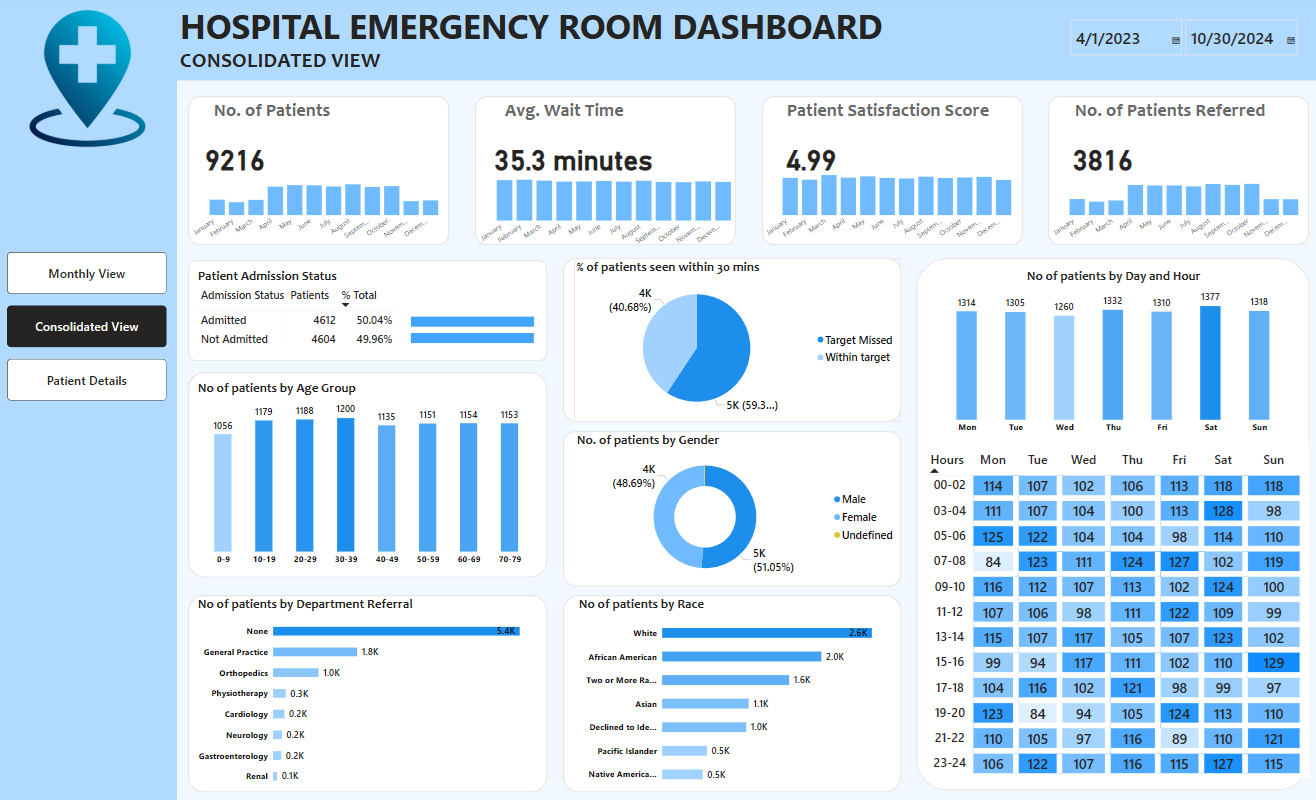

What the dashboard file says about the page in this screenshot:
{"tool":"powerbi","page":{"name":"Page 1","canvas":[2300,1400],"ordinal":0},"visuals":[{"type":"shape","box":[0,0,310,1400],"z":0},{"type":"shape","box":[309.1,0,1990.9,140],"z":1000},{"type":"textbox","box":[309.1,0,1261.8,105.5],"z":2000},{"type":"textbox","box":[310,74.9,278.6,64.4],"z":3000},{"type":"shape","box":[329.1,167.3,455,260],"z":4000},{"type":"card","fields":{"Values":["Hospital ER_Data.No of patients"]},"box":[341.8,230.9,138.2,81.8],"z":5000},{"type":"slicer","fields":{"Values":["Date.Year"]},"box":[1852.7,16.4,187.3,105.5],"z":6000},{"type":"slicer","fields":{"Values":["Date.Month Name"]},"box":[2040,16.4,241.8,105.5],"z":7000},{"type":"textbox","box":[329.1,167.3,454.5,63.6],"z":8000},{"type":"areaChart","fields":{"Y":["Hospital ER_Data.No of patients"],"Category":["Date.Date.Variation.Date Hierarchy.Day"]},"box":[329.1,281.8,454.5,145.5],"z":9000},{"type":"card","fields":{"Values":["Min(Date.Month & Year)"]},"box":[587.3,74.5,287.3,61.8],"z":10000},{"type":"shape","box":[828.8,167.3,454.5,260],"z":11000},{"type":"shape","box":[1328,167.3,454.5,260],"z":12000},{"type":"shape","box":[1827.3,167.3,454.5,260],"z":13000},{"type":"areaChart","fields":{"Category":["Date.Date.Variation.Date Hierarchy.Day"]},"box":[829.1,281.8,454.5,145.5],"z":14000},{"type":"areaChart","fields":{"Category":["Date.Date.Variation.Date Hierarchy.Day"],"Y":["Hospital ER_Data.Avg satisfaction score"]},"box":[1327.3,281.8,454.5,145.5],"z":15000},{"type":"areaChart","fields":{"Category":["Date.Date.Variation.Date Hierarchy.Day"],"Y":["Hospital ER_Data.No of patients referred"]},"box":[1827.3,281.8,454.5,145.5],"z":16000},{"type":"textbox","box":[829.1,167.3,278.2,63.6],"z":17000},{"type":"textbox","box":[1327.3,167.3,454.5,63.6],"z":18000},{"type":"textbox","box":[1829.1,167.3,452.7,63.6],"z":19000},{"type":"card","fields":{"Values":["Hospital ER_Data.Avg wait time"]},"box":[840,230.9,321.8,81.8],"z":20000},{"type":"card","fields":{"Values":["Hospital ER_Data.Avg satisfaction score"]},"box":[1345.5,230.9,136.4,81.8],"z":21000},{"type":"card","fields":{"Values":["Hospital ER_Data.No of patients referred"]},"box":[1852.7,230.9,138.2,81.8],"z":22000},{"type":"textbox","box":[829.1,167.3,454.5,63.6],"z":23000},{"type":"areaChart","fields":{"Category":["Date.Date.Variation.Date Hierarchy.Day"],"Y":["Avg(Hospital ER_Data.Patient Waittime)"]},"box":[839.1,291.8,454.5,145.5],"z":24000},{"type":"shape","box":[329.1,452.7,625.5,176.4],"z":25000},{"type":"pivotTable","title":"Patient Admission Status","fields":{"Rows":["Hospital ER_Data.Patients Admitted"],"Values":["Hospital ER_Data.No of patients","Divide(Hospital ER_Data.No of patients, ScopedEval(Hospital ER_Data.No of patients, []))"]},"box":[341.8,465.5,545.5,152.7],"z":26000},{"type":"barChart","fields":{"Category":["Hospital ER_Data.Admission Status"],"Y":["Hospital ER_Data.No of patients"]},"box":[712.7,523.6,289.1,94.5],"z":27000},{"type":"shape","box":[329.1,647.3,625.5,358.2],"z":28000},{"type":"columnChart","fields":{"Category":["Hospital ER_Data.Age Group"],"Y":["Hospital ER_Data.No of patients"]},"box":[341.8,660,598.2,334.5],"z":29000},{"type":"shape","box":[329.1,1036.4,625.5,343.6],"z":30000},{"type":"barChart","fields":{"Category":["Hospital ER_Data.Department Referral"],"Y":["Hospital ER_Data.No of patients"]},"box":[341.8,1036.4,598.2,343.6],"z":31000},{"type":"shape","box":[981.8,449.1,589.1,285.5],"z":32000},{"type":"shape","box":[981.8,750.9,589.1,270.9],"z":33000},{"type":"pieChart","title":"% of patients seen within 30 mins","fields":{"Category":["Hospital ER_Data.Waittime Status"],"Y":["Hospital ER_Data.No of patients"]},"box":[1001.8,449.1,569.1,285.5],"z":34000},{"type":"donutChart","title":"No. of patients by Gender","fields":{"Y":["Hospital ER_Data.No of patients"],"Category":["Hospital ER_Data.Patient Gender"]},"box":[1001.8,750.9,569.1,270.9],"z":35000},{"type":"shape","box":[981.8,1036.4,589.1,343.6],"z":36000},{"type":"barChart","title":"No of patients by Race","fields":{"Y":["Hospital ER_Data.No of patients"],"Category":["Hospital ER_Data.Patient Race"]},"box":[1005.5,1036.4,549.1,343.6],"z":37000},{"type":"shape","box":[1596.4,449.1,685.5,927.3],"z":38000},{"type":"pivotTable","fields":{"Rows":["Hospital ER_Data.Waittime Interval"],"Columns":["Date.Day name"],"Values":["Hospital ER_Data.No of patients"]},"box":[1610.9,778.2,670.9,576.4],"z":39000},{"type":"columnChart","title":"No of patients by Day and Hour","fields":{"Y":["Hospital ER_Data.No of patients"],"Category":["Date.Day name"]},"box":[1627.3,465.5,625.5,300],"z":40000},{"type":"image","box":[29.1,12.7,249.1,249.1],"z":41000}]}

Visuals, with their boxes in screenshot pixels (x1, y1, x2, y2), scaled from the page's 2300x1400 canvas onto the 1316x800 screenshot:
shape: crop(0, 0, 177, 799)
shape: crop(177, 0, 1315, 80)
textbox: crop(177, 0, 899, 60)
textbox: crop(177, 43, 337, 80)
shape: crop(188, 96, 449, 244)
card - Hospital ER_Data.No of patients: crop(196, 132, 275, 179)
slicer - Date.Year: crop(1060, 9, 1167, 70)
slicer - Date.Month Name: crop(1167, 9, 1306, 70)
textbox: crop(188, 96, 448, 132)
areaChart - Hospital ER_Data.No of patients x Date.Date.Variation.Date Hierarchy.Day: crop(188, 161, 448, 244)
card - Min(Date.Month & Year): crop(336, 43, 500, 78)
shape: crop(474, 96, 734, 244)
shape: crop(760, 96, 1020, 244)
shape: crop(1046, 96, 1306, 244)
areaChart - Date.Date.Variation.Date Hierarchy.Day: crop(474, 161, 734, 244)
areaChart - Date.Date.Variation.Date Hierarchy.Day x Hospital ER_Data.Avg satisfaction score: crop(759, 161, 1019, 244)
areaChart - Date.Date.Variation.Date Hierarchy.Day x Hospital ER_Data.No of patients referred: crop(1046, 161, 1306, 244)
textbox: crop(474, 96, 634, 132)
textbox: crop(759, 96, 1019, 132)
textbox: crop(1047, 96, 1306, 132)
card - Hospital ER_Data.Avg wait time: crop(481, 132, 665, 179)
card - Hospital ER_Data.Avg satisfaction score: crop(770, 132, 848, 179)
card - Hospital ER_Data.No of patients referred: crop(1060, 132, 1139, 179)
textbox: crop(474, 96, 734, 132)
areaChart - Date.Date.Variation.Date Hierarchy.Day x Avg(Hospital ER_Data.Patient Waittime): crop(480, 167, 740, 250)
shape: crop(188, 259, 546, 359)
"Patient Admission Status" pivotTable: crop(196, 266, 508, 353)
barChart - Hospital ER_Data.Admission Status x Hospital ER_Data.No of patients: crop(408, 299, 573, 353)
shape: crop(188, 370, 546, 575)
columnChart - Hospital ER_Data.Age Group x Hospital ER_Data.No of patients: crop(196, 377, 538, 568)
shape: crop(188, 592, 546, 789)
barChart - Hospital ER_Data.Department Referral x Hospital ER_Data.No of patients: crop(196, 592, 538, 789)
shape: crop(562, 257, 899, 420)
shape: crop(562, 429, 899, 584)
"% of patients seen within 30 mins" pieChart: crop(573, 257, 899, 420)
"No. of patients by Gender" donutChart: crop(573, 429, 899, 584)
shape: crop(562, 592, 899, 789)
"No of patients by Race" barChart: crop(575, 592, 890, 789)
shape: crop(913, 257, 1306, 787)
pivotTable - Hospital ER_Data.Waittime Interval x Date.Day name: crop(922, 445, 1306, 774)
"No of patients by Day and Hour" columnChart: crop(931, 266, 1289, 437)
image: crop(17, 7, 159, 150)
